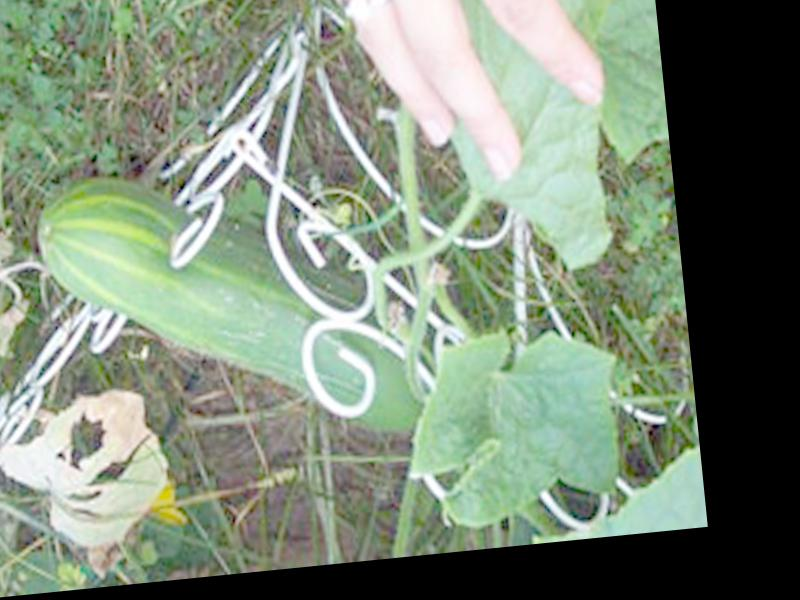Cucumber: (33, 149, 430, 467)
